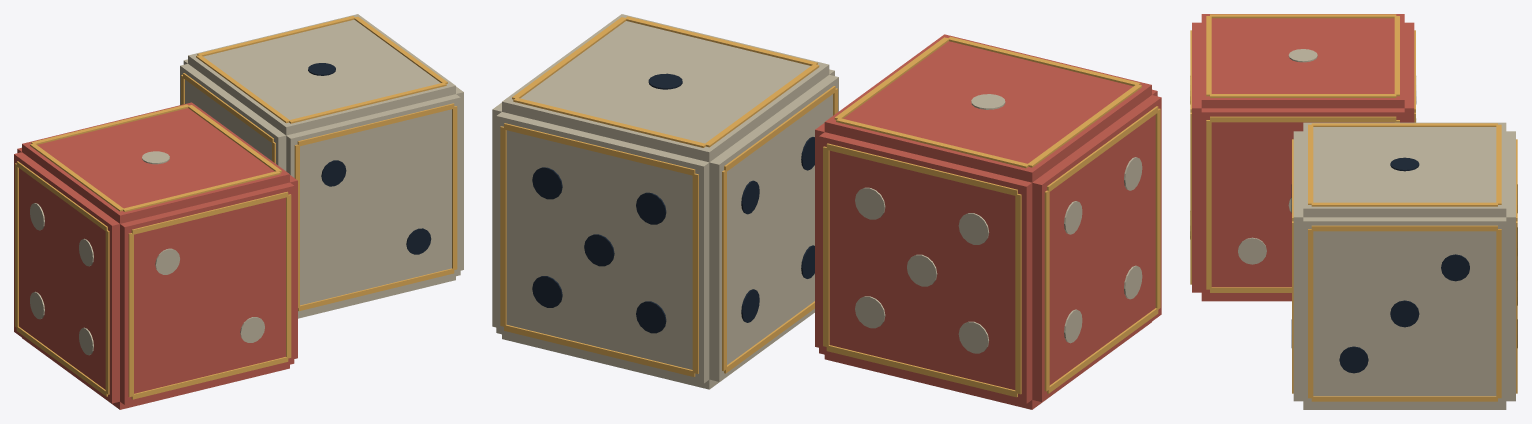
File: space_scene_orbit_calibrator.glb
3 renders of one model, left to right at view 1: azimuth 30°, elevation 25°; view 2: azimuth 150°, elevation 25°; view 3: azimuth 270°, elevation 25°, orthographic. The views are drawn at different scales.
Parts seen in each view (by area): view 1: FixedDetails, BrassTrim; view 2: FixedDetails, BrassTrim; view 3: FixedDetails, BrassTrim.
Part boxes in pixels (x1,y1,x2,y2): FixedDetails: [14, 14, 463, 409]; BrassTrim: [15, 16, 457, 399]; FixedDetails: [492, 14, 1161, 409]; BrassTrim: [500, 16, 1160, 397]; FixedDetails: [1190, 14, 1517, 409]; BrassTrim: [1190, 14, 1517, 401].
Bounding box in the file's own units: 0.714 × 0.334 × 0.484.
